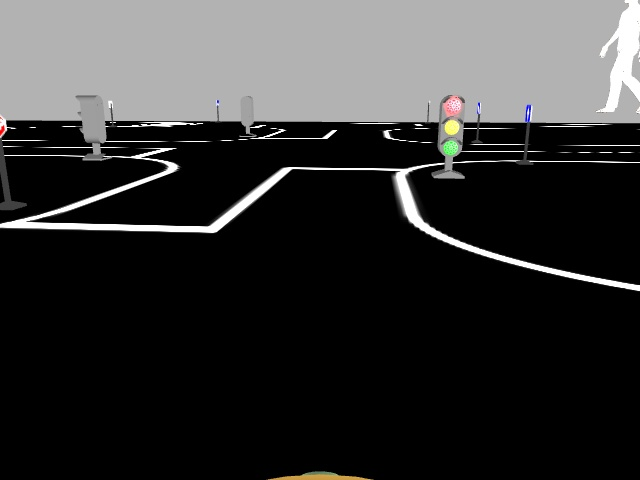TrafficLight: (437, 97, 465, 156)
